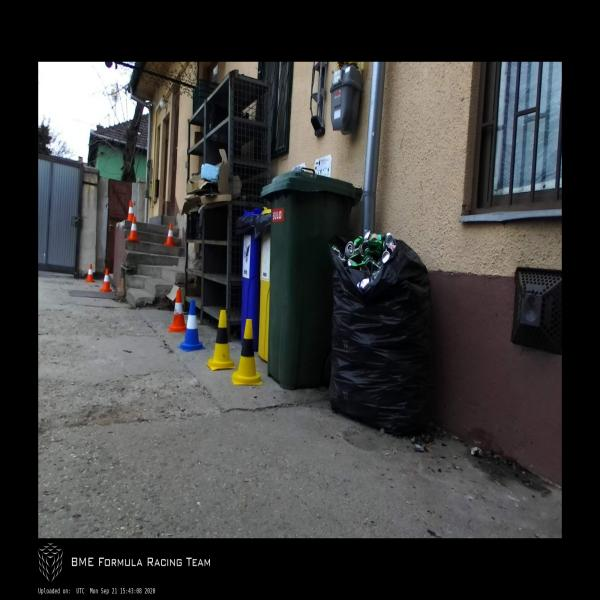blue_cone: (178, 301, 205, 351)
orange_cone: (168, 290, 186, 332), (128, 216, 140, 241), (100, 268, 112, 292), (164, 223, 175, 247), (86, 264, 95, 282), (126, 201, 134, 221)
yellow_cone: (232, 319, 262, 384), (206, 310, 236, 371)
